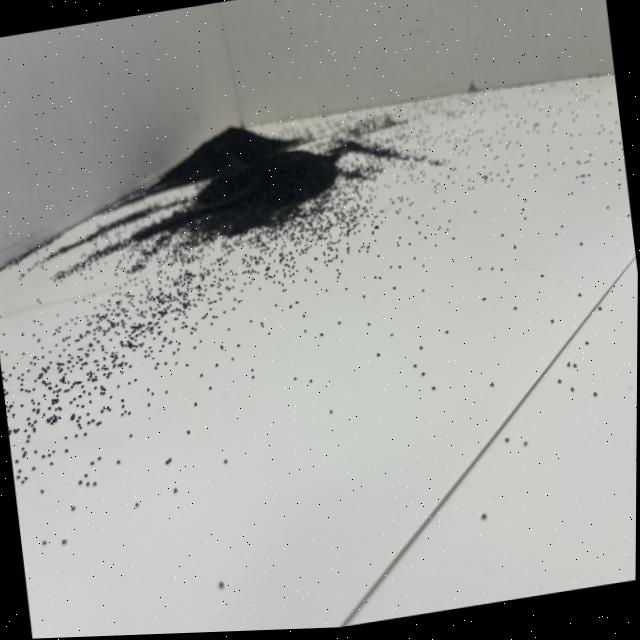Poppy Seeds: (106, 70, 434, 273)
